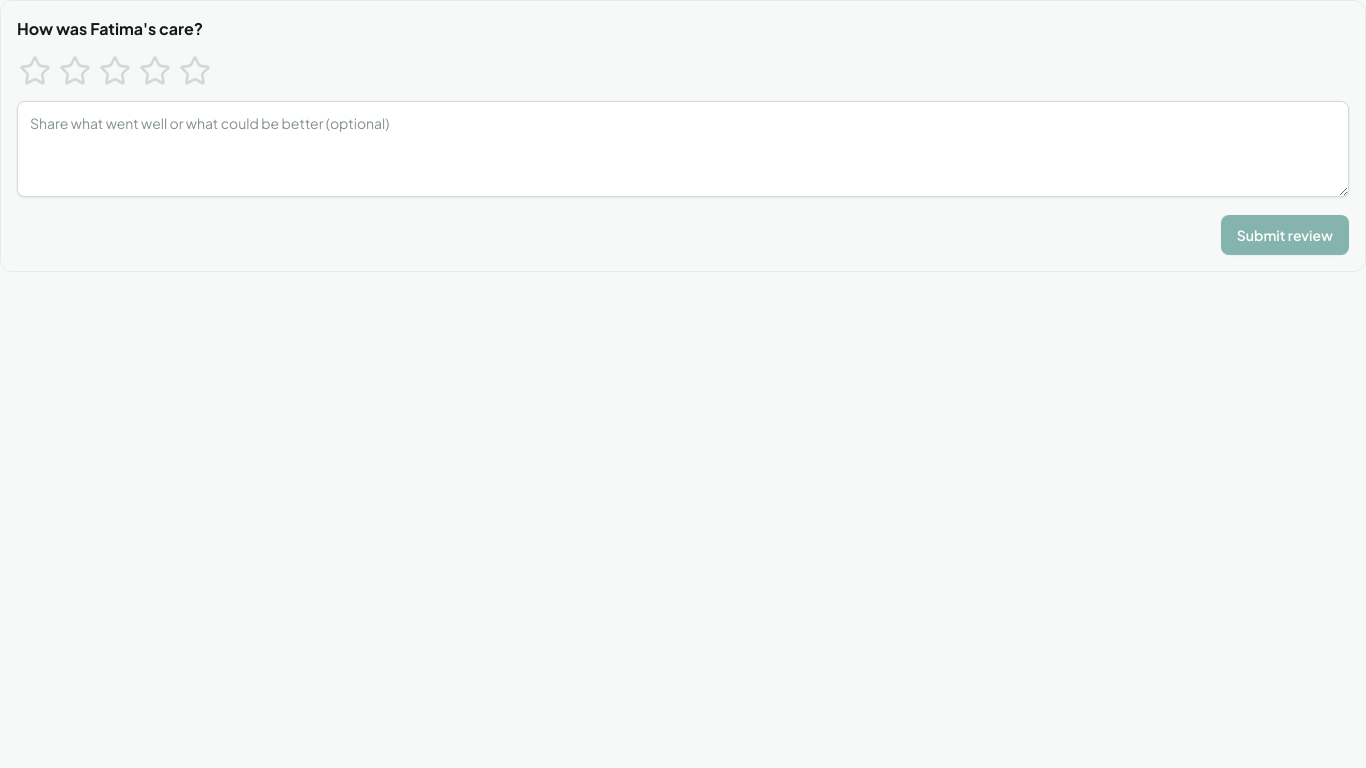
Test case: ReviewPanel › requires a star rating, then posts {rating, comment}
Expected: the text "How was Fatima's care?" is shown, x1=17 y1=18 x2=203 y2=39
Expected: the button "Submit review" is disabled, x1=1221 y1=215 x2=1349 y2=255
Type "  Very caring  " into the text box named "Comment".
click(683, 149); type("  Very caring  ")  # box x1=17 y1=101 x2=1349 y2=197
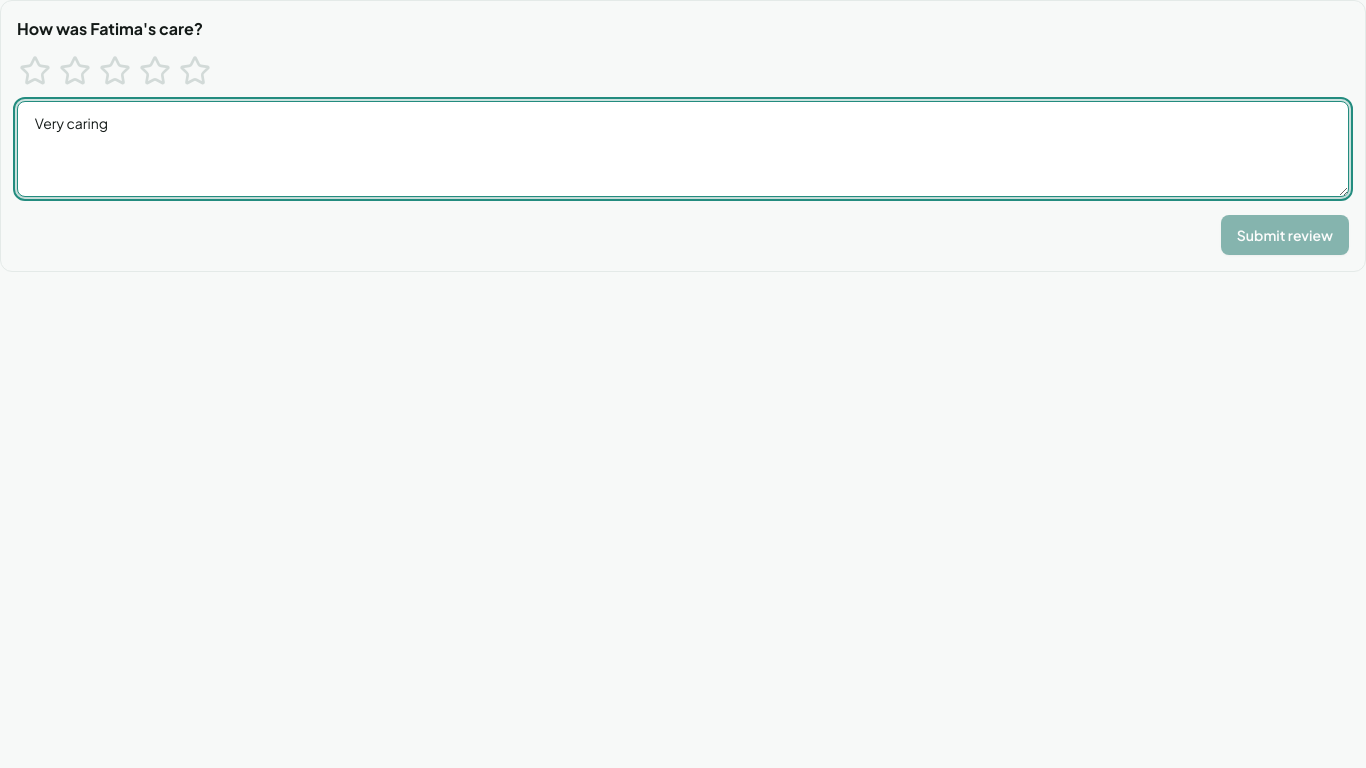
Expected: the button "Submit review" is disabled, x1=1221 y1=215 x2=1349 y2=255
Click the radio button named "4 stars".
click(155, 71)  # box x1=137 y1=53 x2=173 y2=89
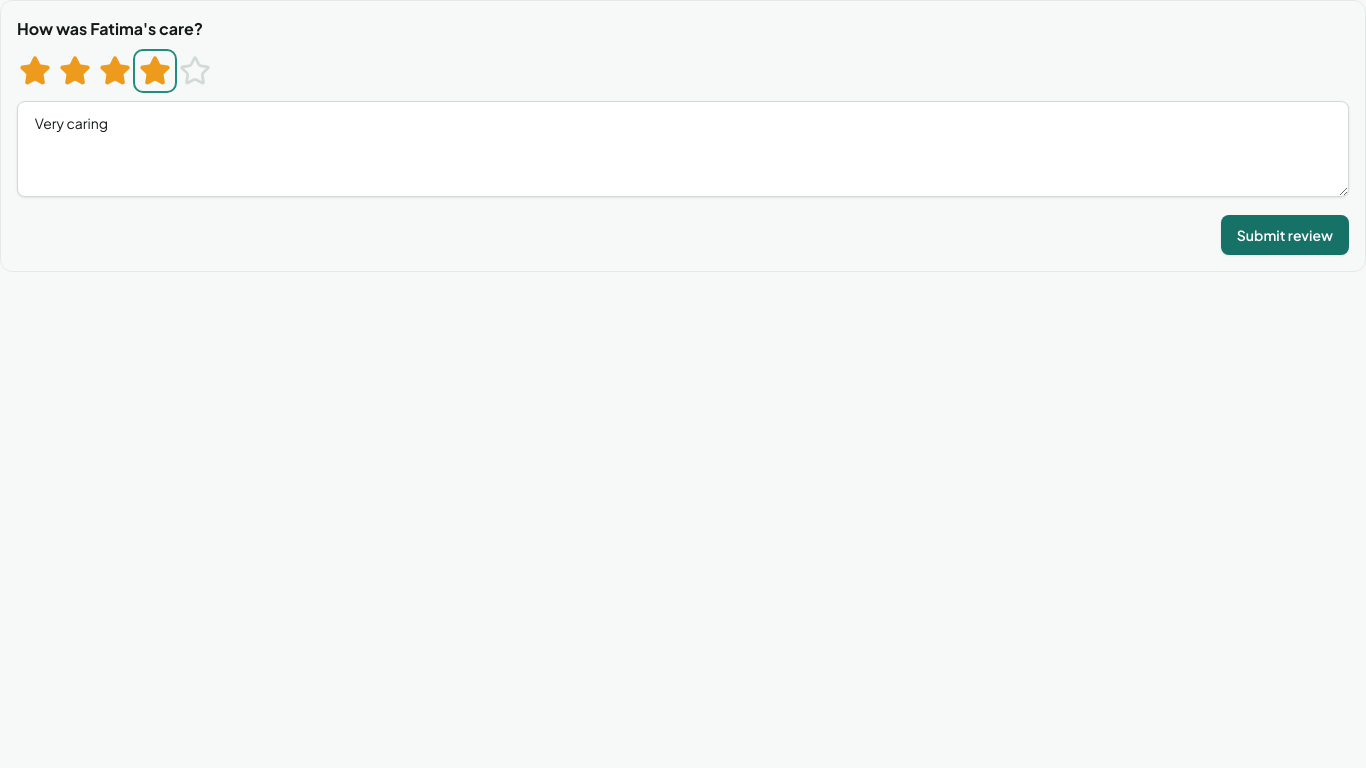
Expected: the button "Submit review" is enabled
Click the button "Submit review".
click(1285, 235)  # box x1=1221 y1=215 x2=1349 y2=255
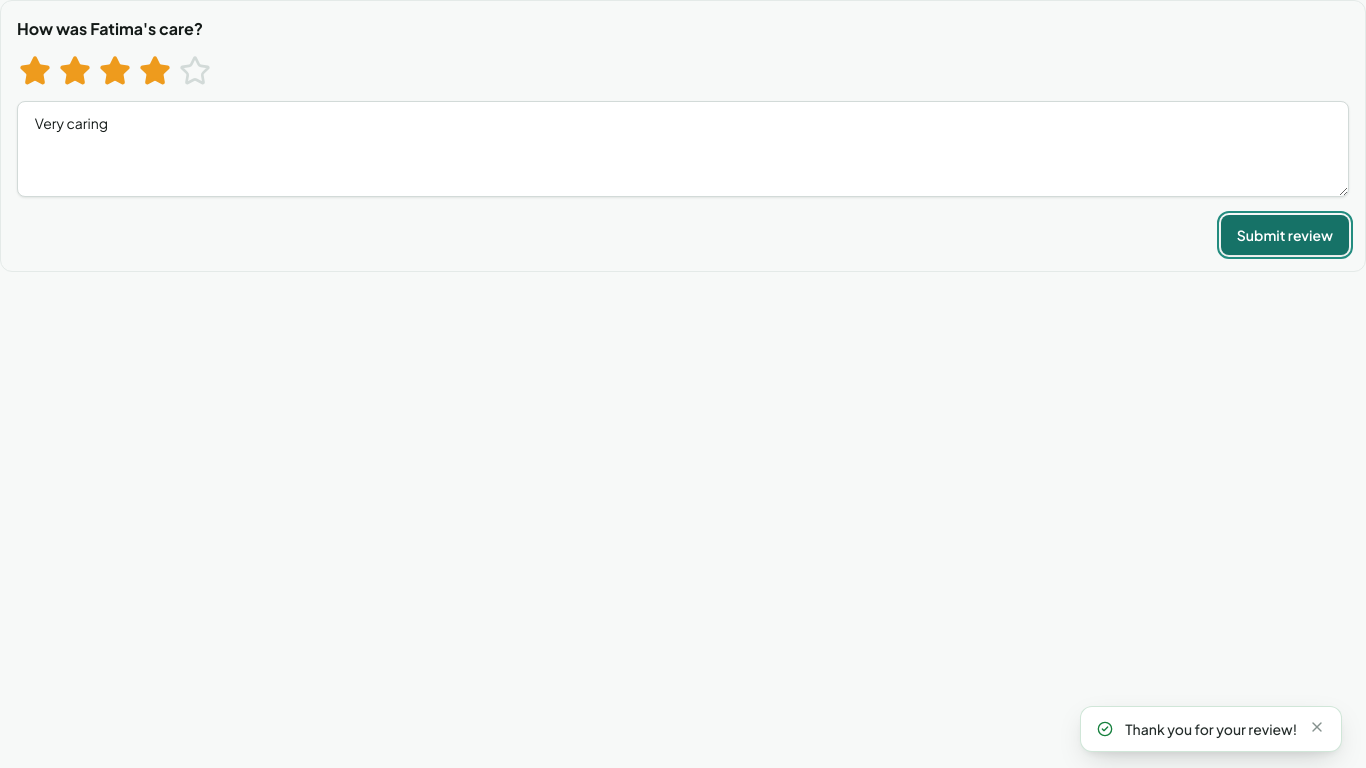
Expected: the text "Thank you for your review!" is shown, x1=1125 y1=719 x2=1297 y2=739
